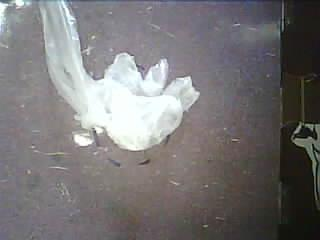paper: (0, 31, 148, 175), (0, 98, 44, 134)
